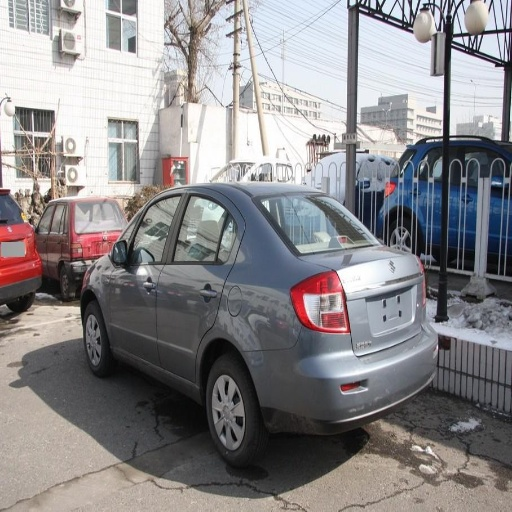back_bumper: (249, 325, 437, 434)
back_glass: (252, 195, 371, 249)
back_left_door: (159, 190, 238, 380)
